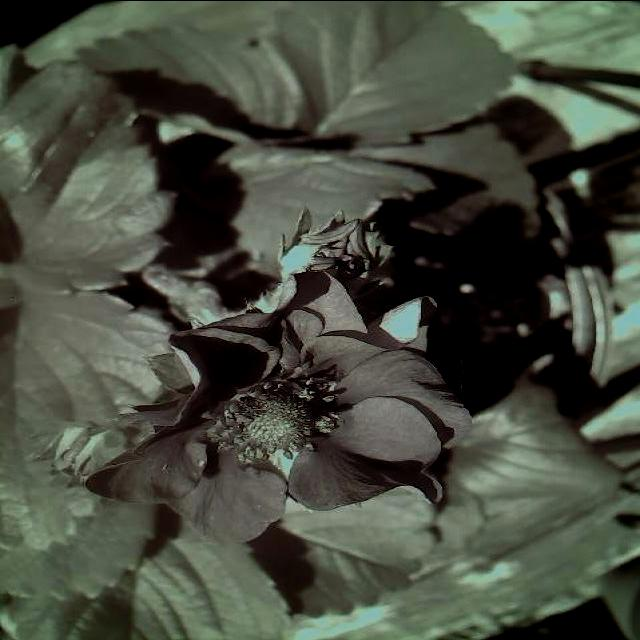flower: (83, 268, 476, 552)
